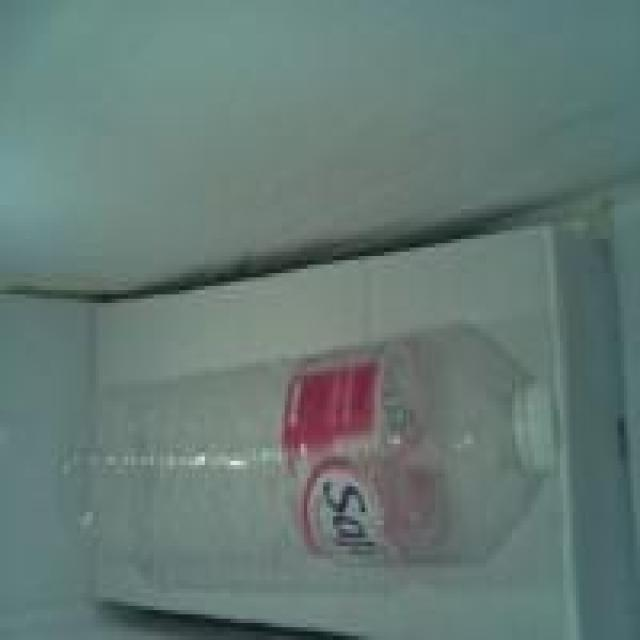Pet_Bottle: (58, 337, 560, 568)
